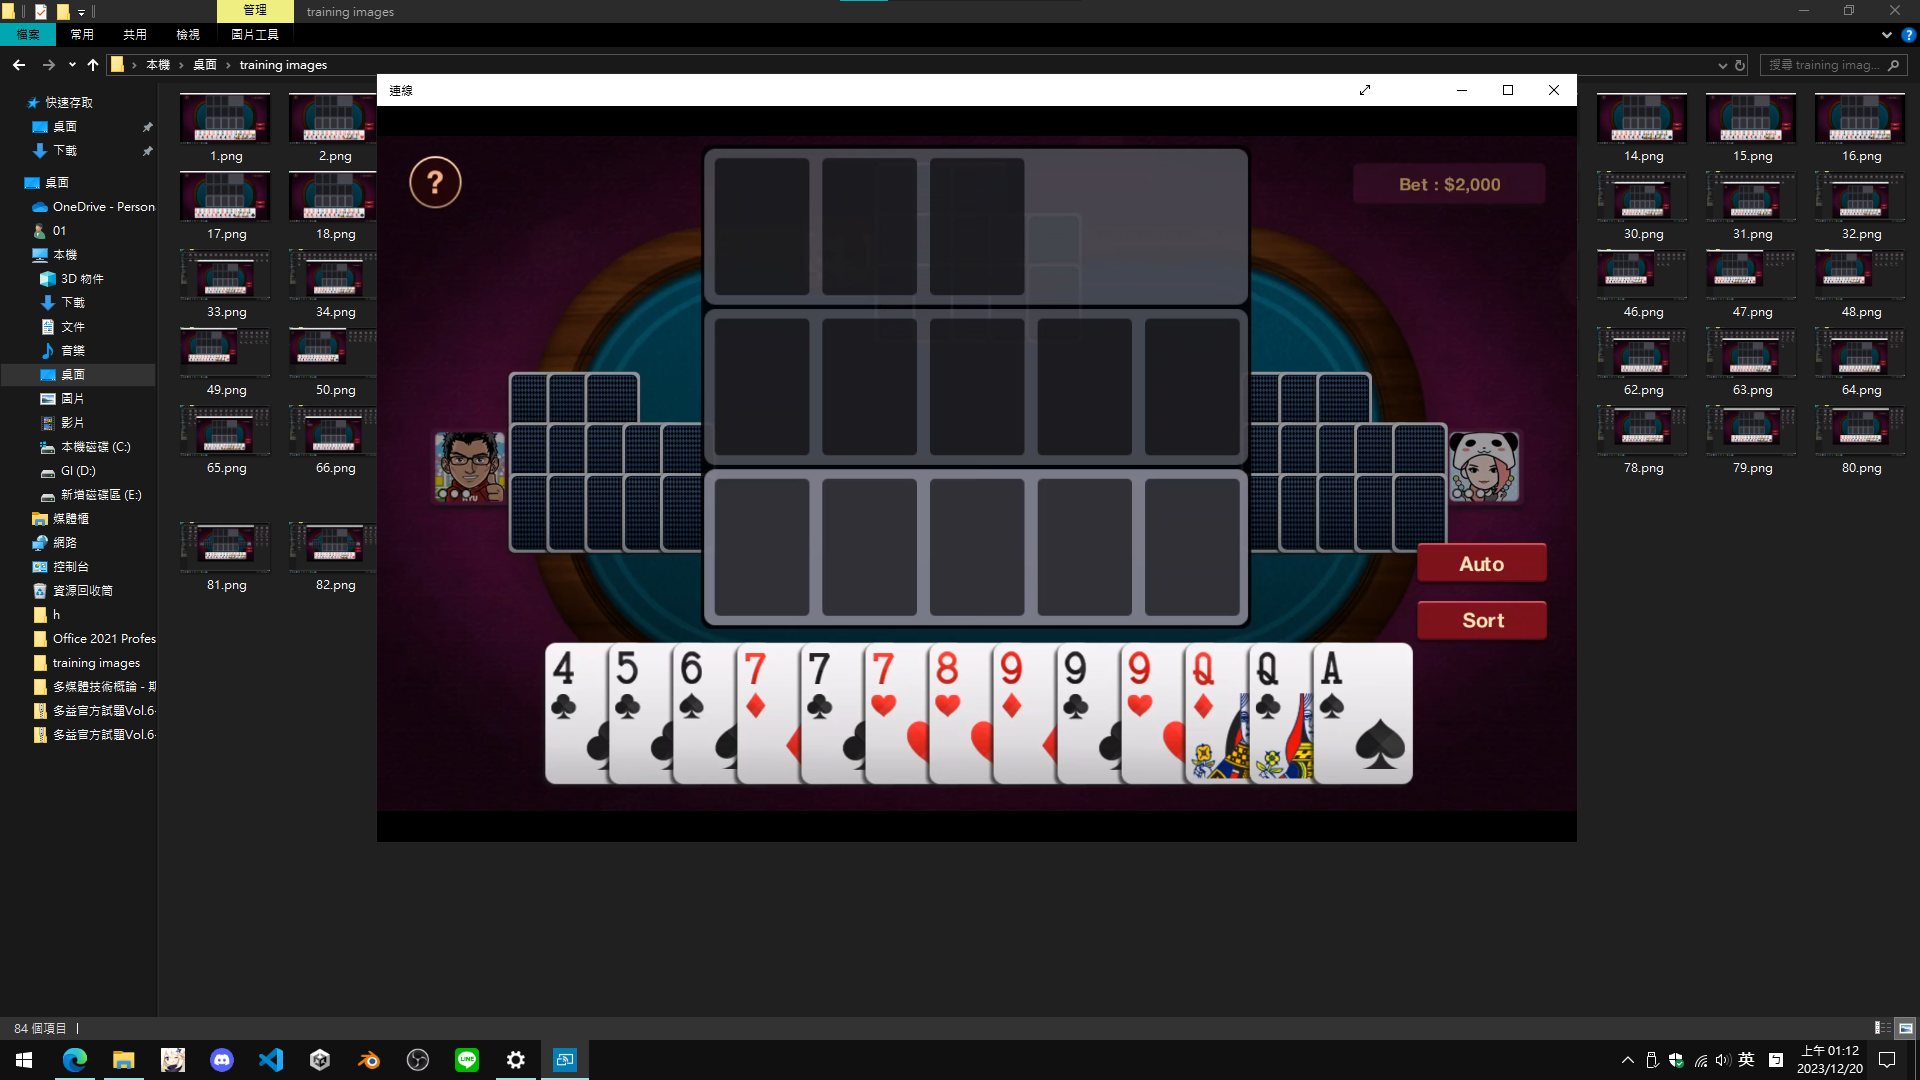4C: (550, 649, 579, 724)
5C: (613, 646, 642, 727)
6S: (678, 647, 707, 725)
7C: (804, 647, 836, 724)
7D: (741, 646, 771, 727)
7H: (869, 650, 899, 723)
8H: (934, 650, 961, 720)
9C: (1060, 646, 1092, 725)
9D: (997, 646, 1026, 721)
9H: (1124, 650, 1158, 721)
AS: (1316, 647, 1346, 723)
QC: (1253, 646, 1282, 724)
QD: (1189, 645, 1215, 727)
